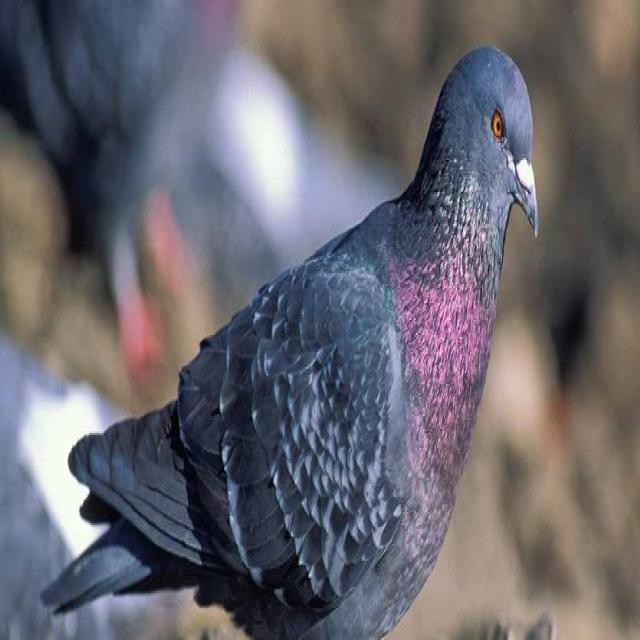Pigeon: (38, 44, 542, 628)
